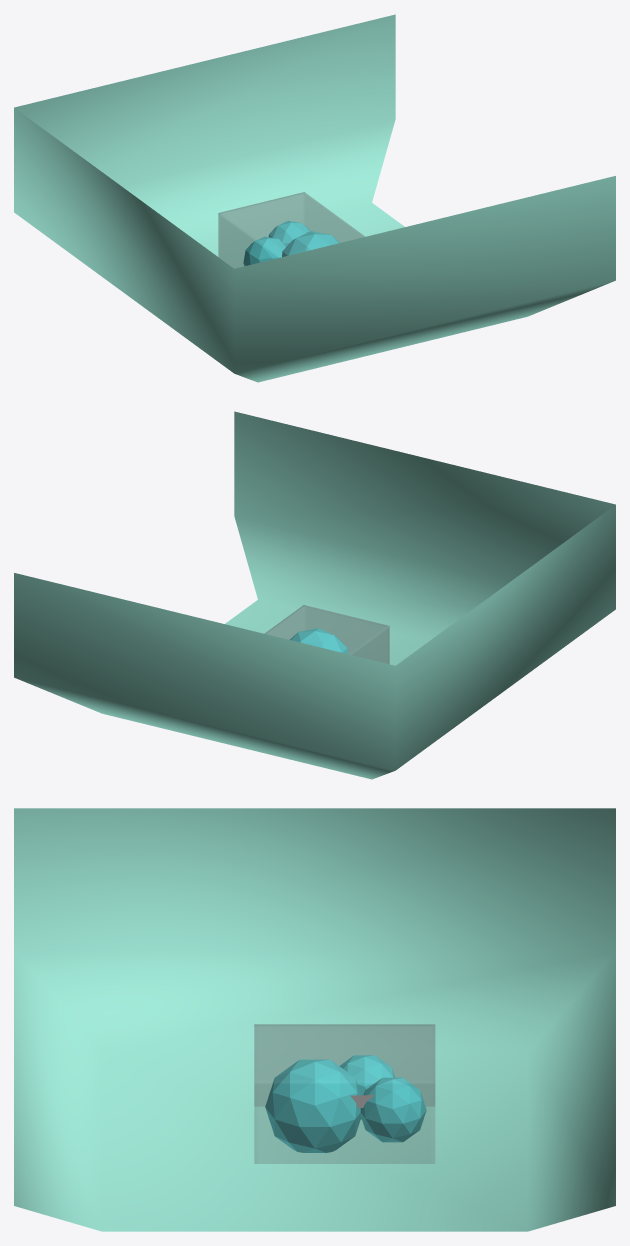
The model's file is package.glb.
3 views of the same model, one above another, from view 1: azimuth 30°, elevation 25°; view 2: azimuth 150°, elevation 25°; view 3: azimuth 270°, elevation 25° (orthographic). The views are drawn at different scales.
Visible parts, largest first — view 1: Plane.001, Cube, Icosphere; view 2: Plane.001, Cube, Icosphere; view 3: Plane.001, Cube, Icosphere.
Boxes of the visible parts, <box> form: Plane.001: <box>14,14,615,382</box>; Cube: <box>218,192,364,268</box>; Icosphere: <box>243,220,339,265</box>; Plane.001: <box>14,411,615,779</box>; Cube: <box>265,605,389,663</box>; Icosphere: <box>290,628,348,653</box>; Plane.001: <box>14,808,615,1231</box>; Cube: <box>254,1024,434,1163</box>; Icosphere: <box>265,1055,426,1152</box>.
Size of the model in its own units: 12.09 by 4.85 by 12.09.
